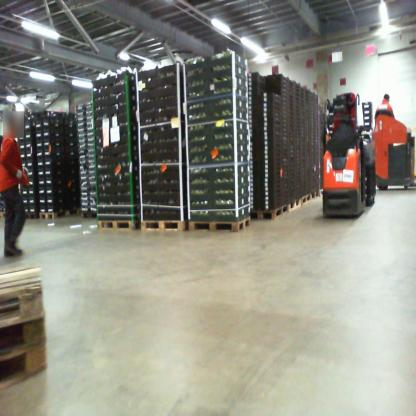pallet: (1, 254, 48, 330), (2, 298, 51, 362), (2, 338, 52, 392), (187, 215, 248, 235), (139, 217, 187, 235), (250, 200, 287, 222), (92, 216, 141, 232), (39, 204, 77, 224), (285, 197, 302, 214), (78, 210, 101, 220), (301, 190, 314, 204), (0, 206, 9, 221), (24, 209, 35, 221), (311, 190, 324, 198)
pallet_truck: (317, 97, 378, 224), (373, 93, 415, 199)
